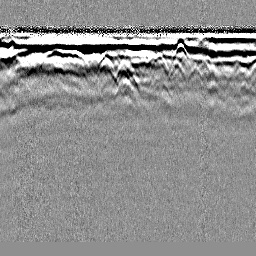cavity: (113, 57, 140, 90)
